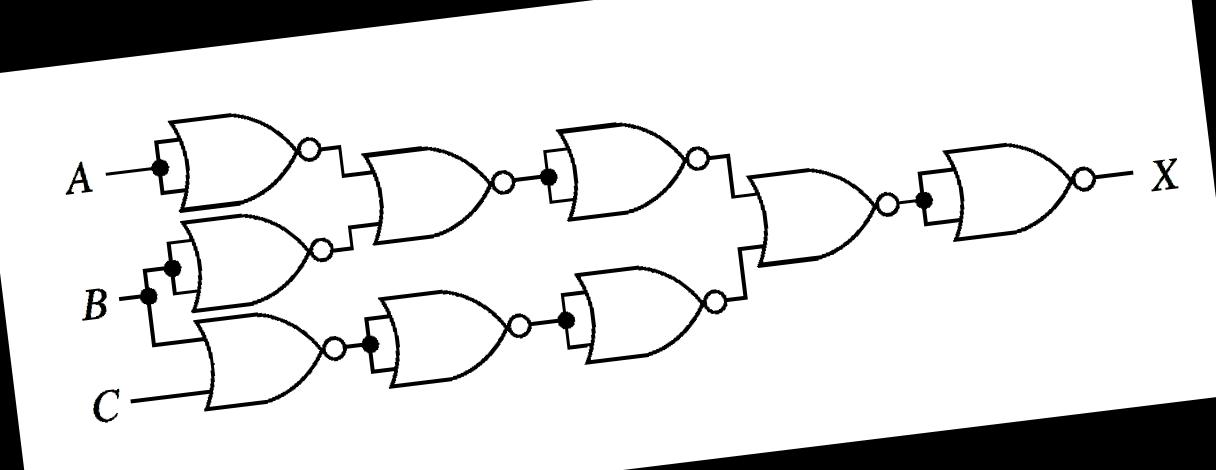nor: (936, 125, 1112, 252), (356, 128, 530, 255), (739, 152, 913, 276), (569, 247, 741, 372), (374, 272, 543, 396), (552, 106, 722, 228), (164, 98, 333, 218), (188, 299, 357, 419), (179, 196, 344, 318)
